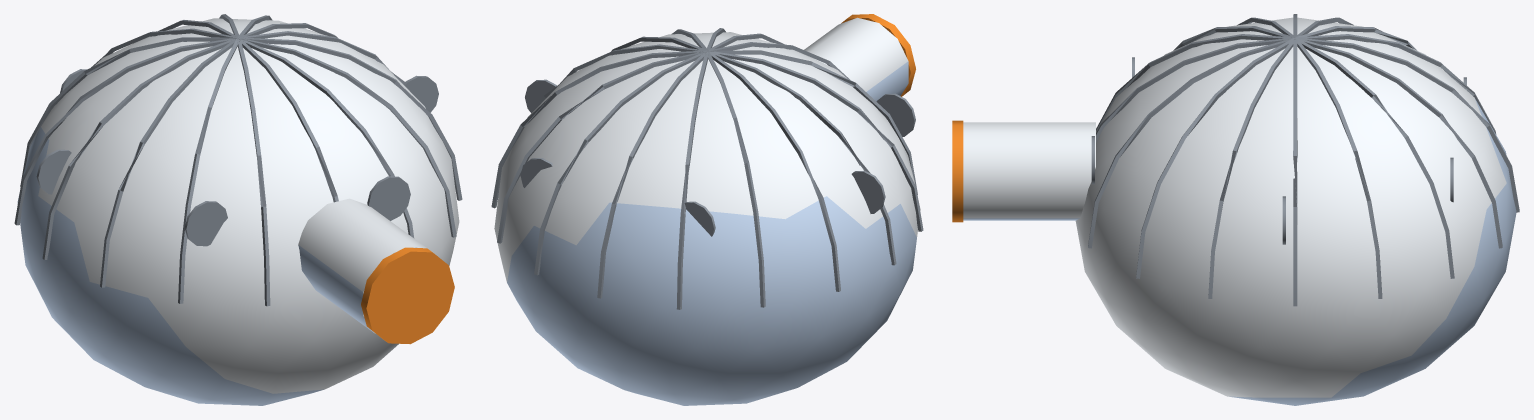
The model's file is MoonDome.fbx.
3 renders of one model, left to right at view 1: azimuth 30°, elevation 25°; view 2: azimuth 150°, elevation 25°; view 3: azimuth 270°, elevation 25°, orthographic. The views are drawn at different scales.
Parts seen in each view (by area): view 1: MoonDome; view 2: MoonDome; view 3: MoonDome.
Part boxes in pixels (x1,y1,x2,y2): MoonDome: [14, 14, 462, 405]; MoonDome: [491, 14, 923, 405]; MoonDome: [952, 14, 1519, 405].
Size of the model in its own units: 8.11 by 6.86 by 10.26.
1 material, 1 textured.
